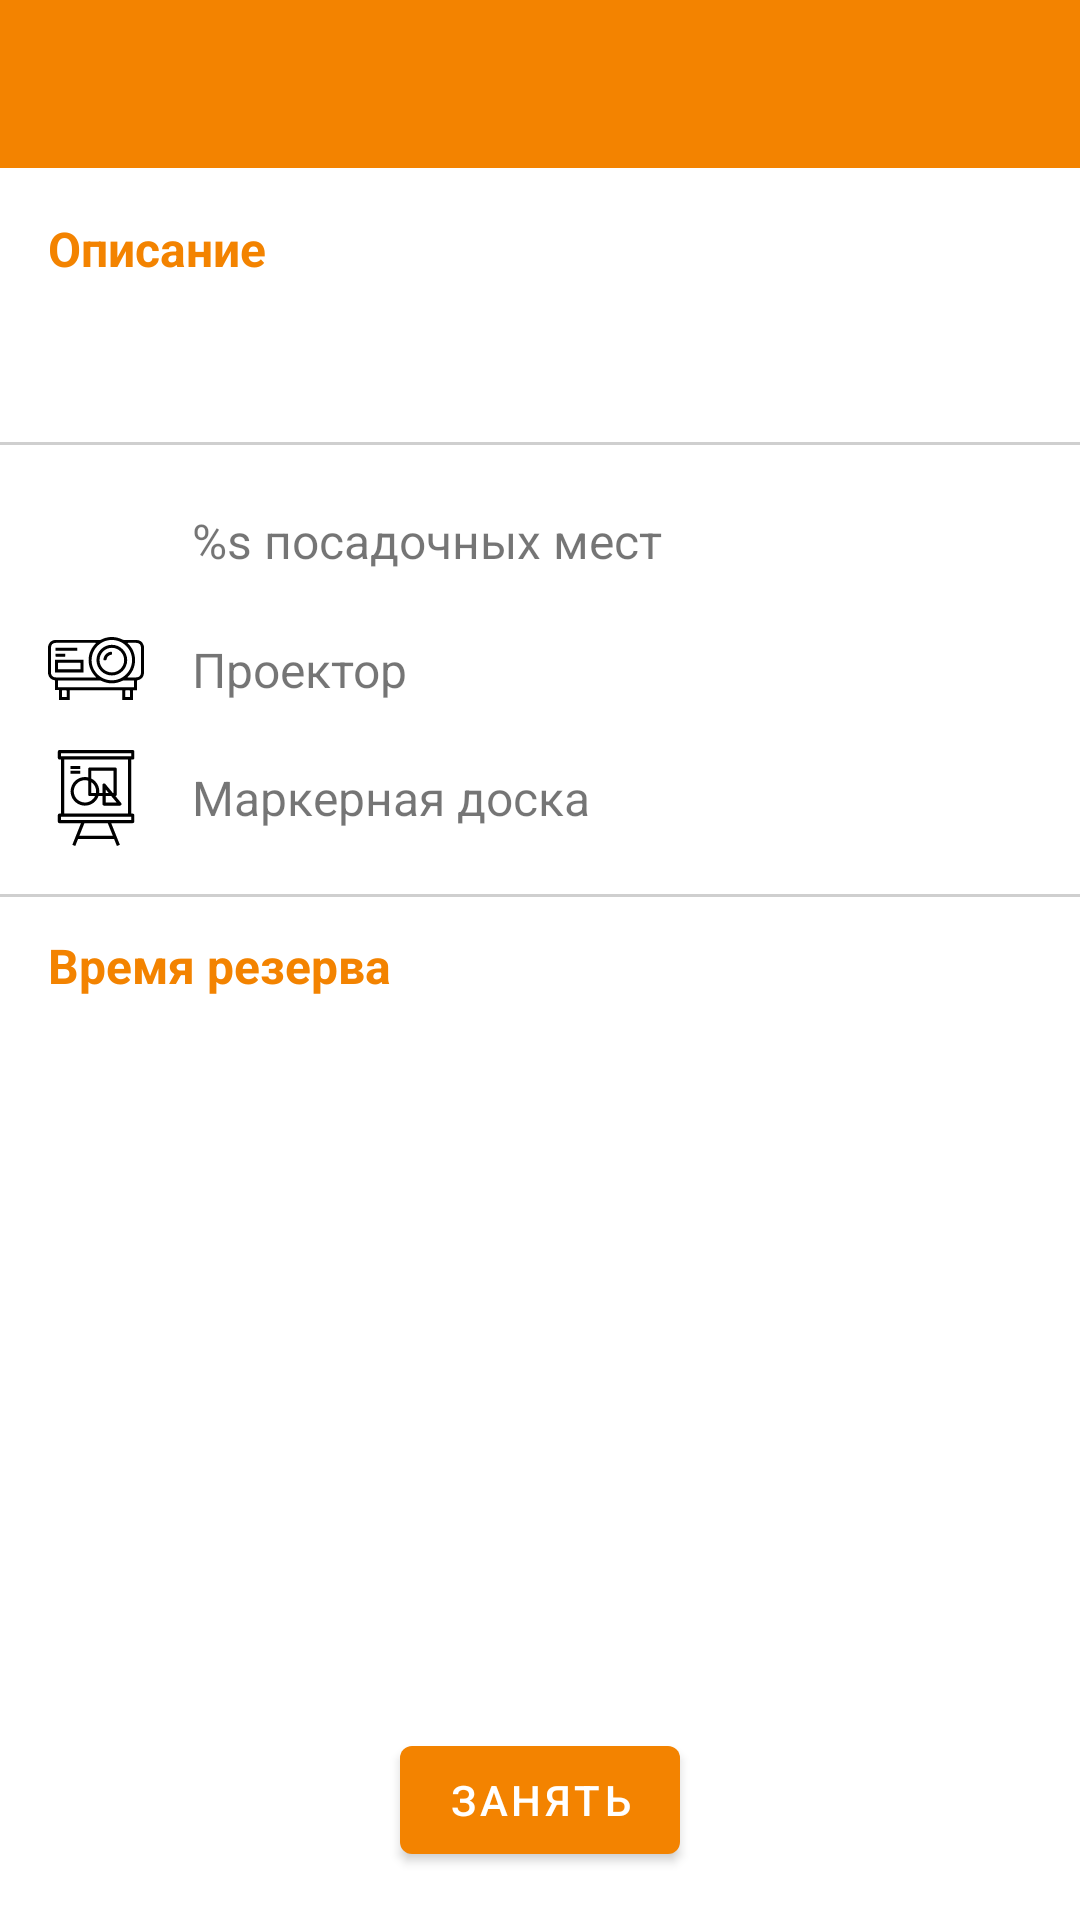

Named icons in this screenshot (1080px x 1920px) and their centers, [x,y]:
markerboard: [96,798]
proektor: [96,668]
